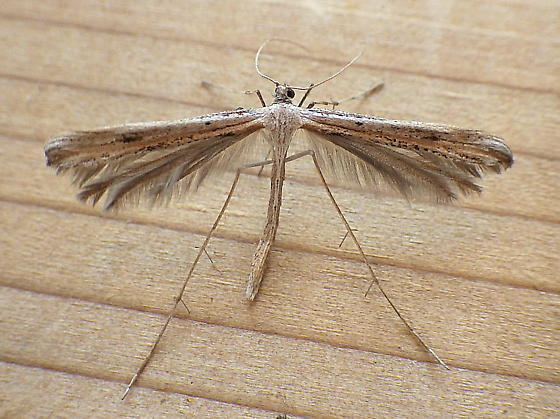Alucitidae: (45, 26, 514, 399)
moth: (43, 24, 512, 397)
